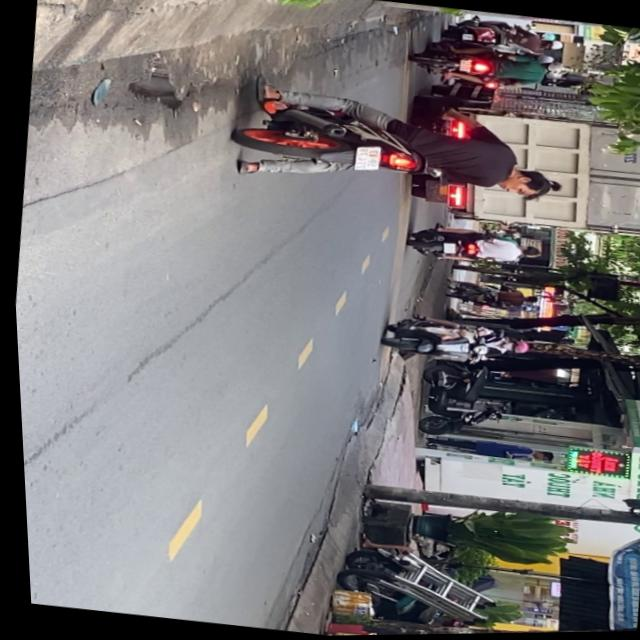helmet: (501, 340, 526, 356)
licenseplate: (223, 76, 576, 213), (375, 310, 530, 375)
motorcyclist: (493, 165, 562, 205)
nohelmet: (353, 146, 381, 173)
